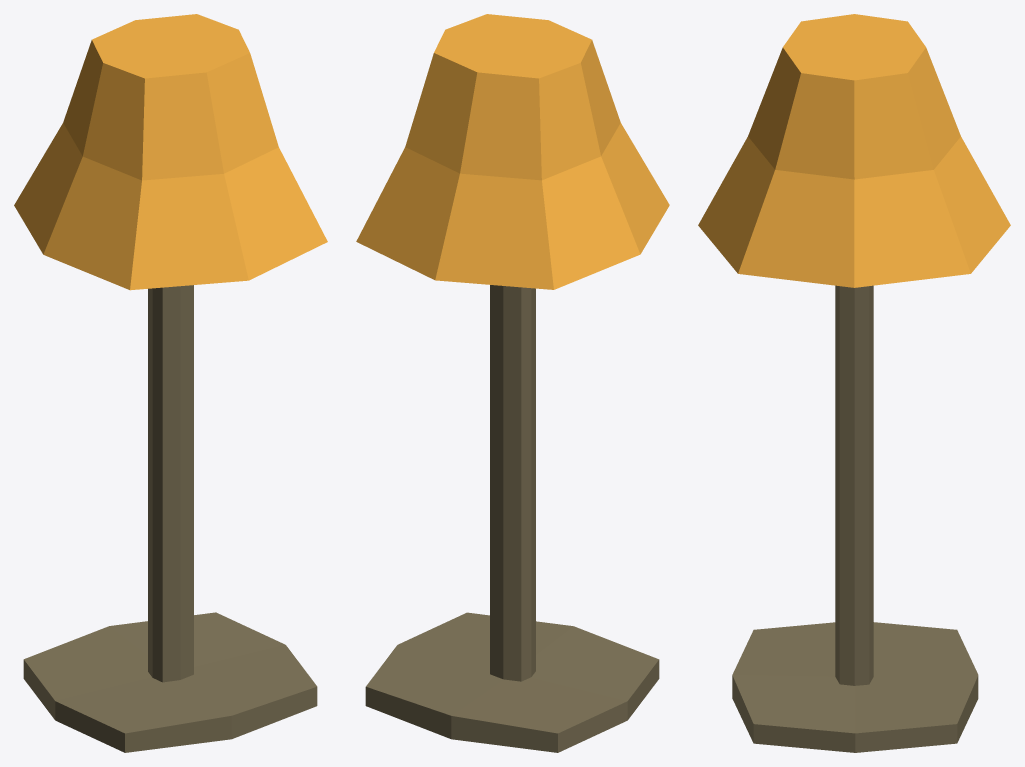
File: WallyLamp.fbx
3 renders of one model, left to right at view 1: azimuth 30°, elevation 25°; view 2: azimuth 150°, elevation 25°; view 3: azimuth 270°, elevation 25°, orthographic.
Visible parts, largest first — view 1: Cube.007, Cube.004, Cube.006; view 2: Cube.007, Cube.004, Cube.006; view 3: Cube.007, Cube.004, Cube.006.
Boxes of the visible parts, x1,y1,x2,y2 form: Cube.007: (14, 14, 327, 290); Cube.004: (23, 612, 317, 752); Cube.006: (148, 285, 193, 682); Cube.007: (356, 14, 669, 289); Cube.004: (365, 612, 659, 752); Cube.006: (490, 285, 535, 681); Cube.007: (698, 14, 1010, 287); Cube.004: (732, 622, 978, 752); Cube.006: (835, 285, 873, 685).
Size of the model in its own units: 170 by 414 by 180.
